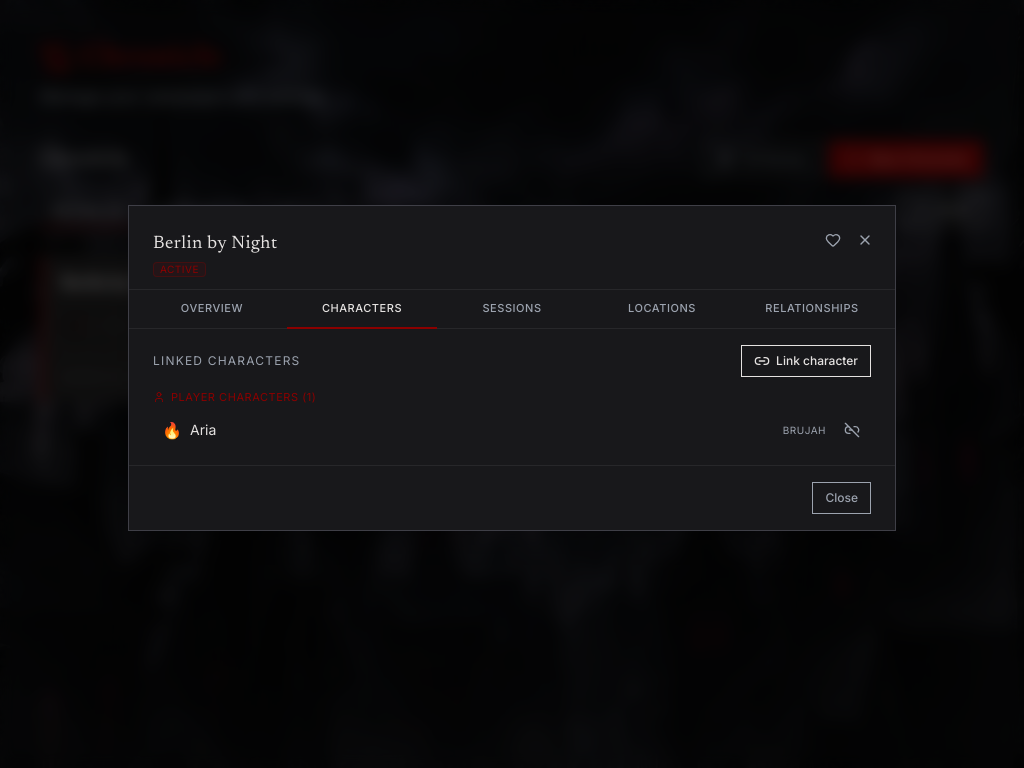
Test: Chronicle detail — link character flow (Batch Z) › keeps unlink working: removing a linked character returns the empty state
Expected: the text "Aria" is shown, [190, 421, 216, 438]
Expected: the text "No linked characters yet." is not shown
Click the button named "unlink": (852, 430) [838, 416, 866, 444]
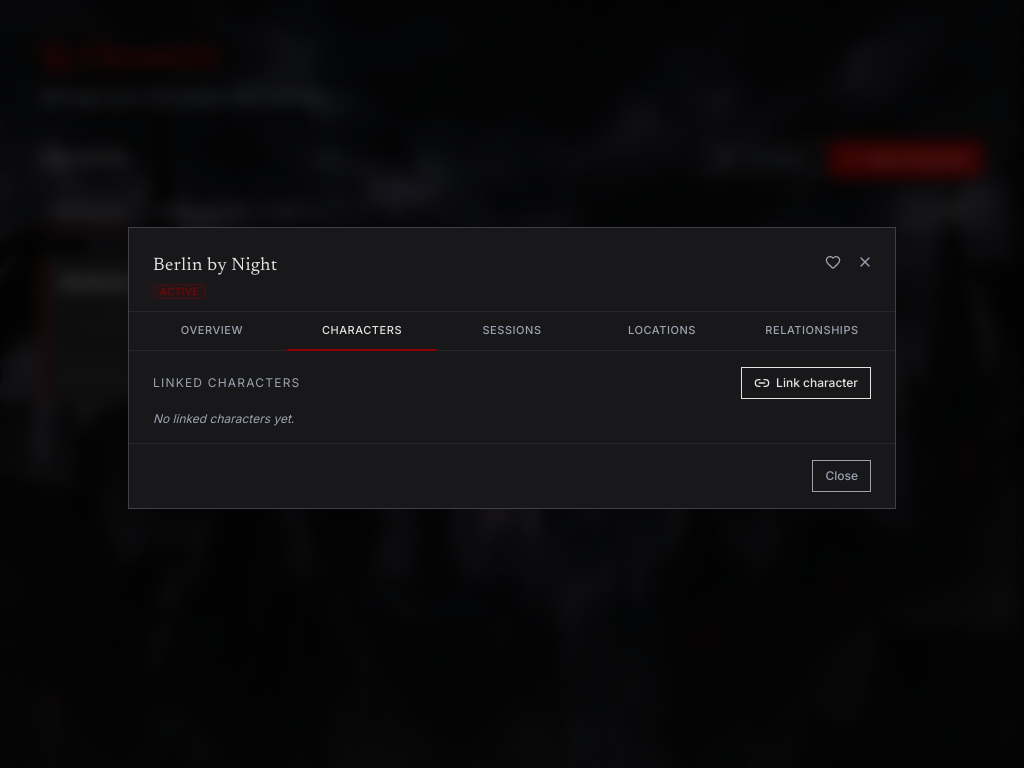
Expected: the text "No linked characters yet." is shown, [153, 411, 294, 426]
